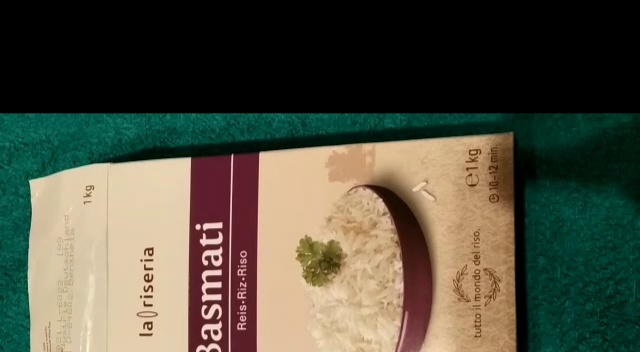basmati_rice: (20, 129, 525, 352)
